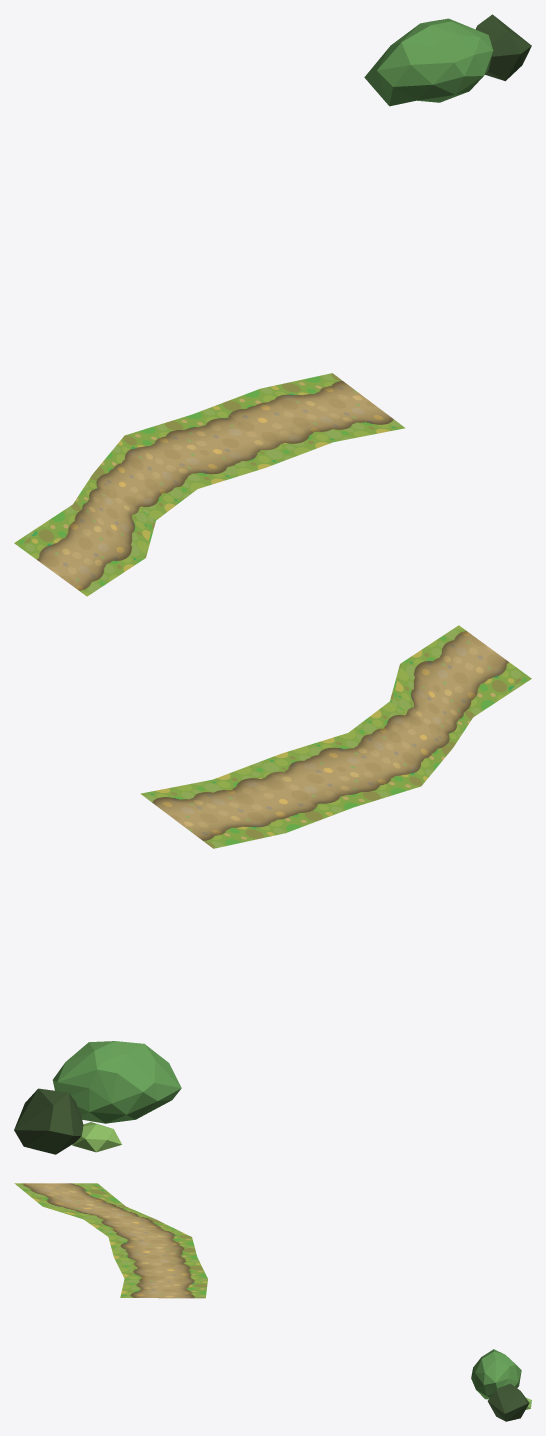
3 views of the same model, one above another, from view 1: azimuth 30°, elevation 25°; view 2: azimuth 210°, elevation 25°; view 3: azimuth 270°, elevation 25° (orthographic). The views are drawn at different scales.
Visible parts, largest first — view 1: T-Room Suburb O; view 2: T-Room Suburb O; view 3: T-Room Suburb O.
Boxes of the visible parts, x1,y1,x2,y2 form: T-Room Suburb O: (14, 14, 531, 596); T-Room Suburb O: (14, 625, 531, 1154); T-Room Suburb O: (14, 1183, 531, 1421).
Bounding box in the file's own units: 15.67 × 1.35 × 14.06.
2 materials, 2 textured.
